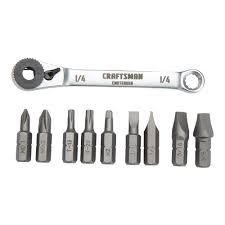screwdriver: (191, 110, 213, 167), (98, 107, 116, 164), (142, 109, 160, 165), (14, 106, 32, 161), (170, 110, 188, 165), (34, 107, 51, 162), (124, 108, 140, 165), (61, 108, 77, 163), (80, 108, 95, 163)
